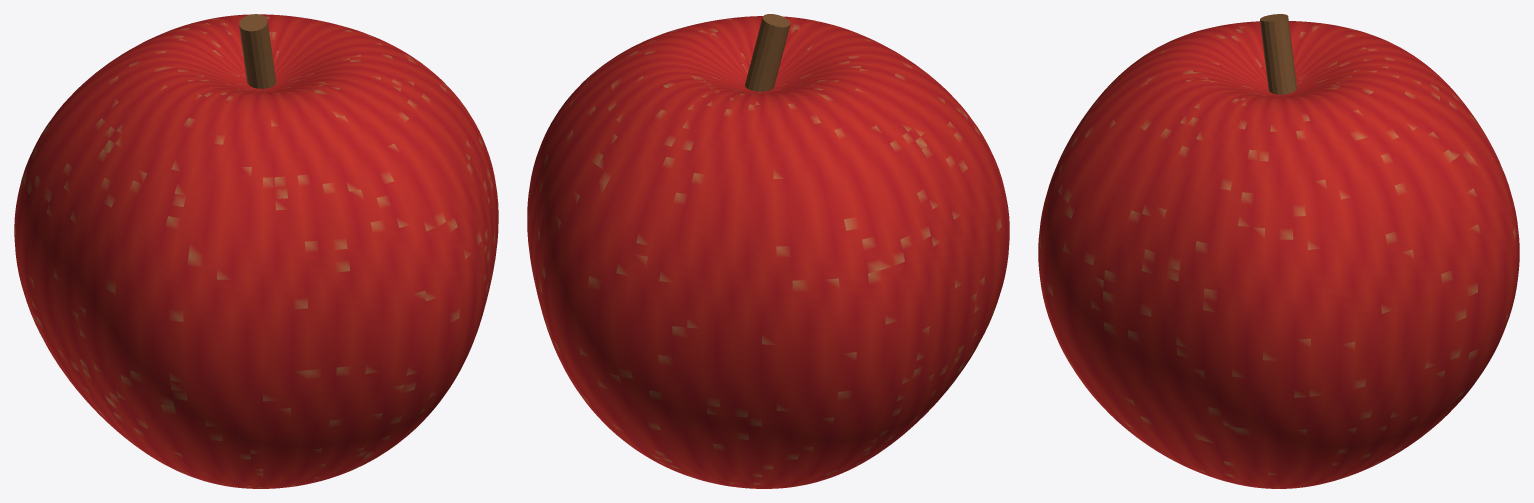
The picture shows the model from 3 angles, left to right: view 1: azimuth 30°, elevation 25°; view 2: azimuth 150°, elevation 25°; view 3: azimuth 270°, elevation 25°; orthographic projection.
Parts seen in each view (by area): view 1: Apple, Apple stem; view 2: Apple, Apple stem; view 3: Apple, Apple stem.
Part boxes in pixels (x1=…): Apple: x1=14, y1=14, x2=498, y2=488; Apple stem: x1=239, y1=14, x2=275, y2=88; Apple: x1=527, y1=16, x2=1009, y2=488; Apple stem: x1=745, y1=14, x2=790, y2=91; Apple: x1=1038, y1=21, x2=1519, y2=488; Apple stem: x1=1260, y1=14, x2=1296, y2=94.
Size of the model in its own units: 2.17 by 2.26 by 2.2.
